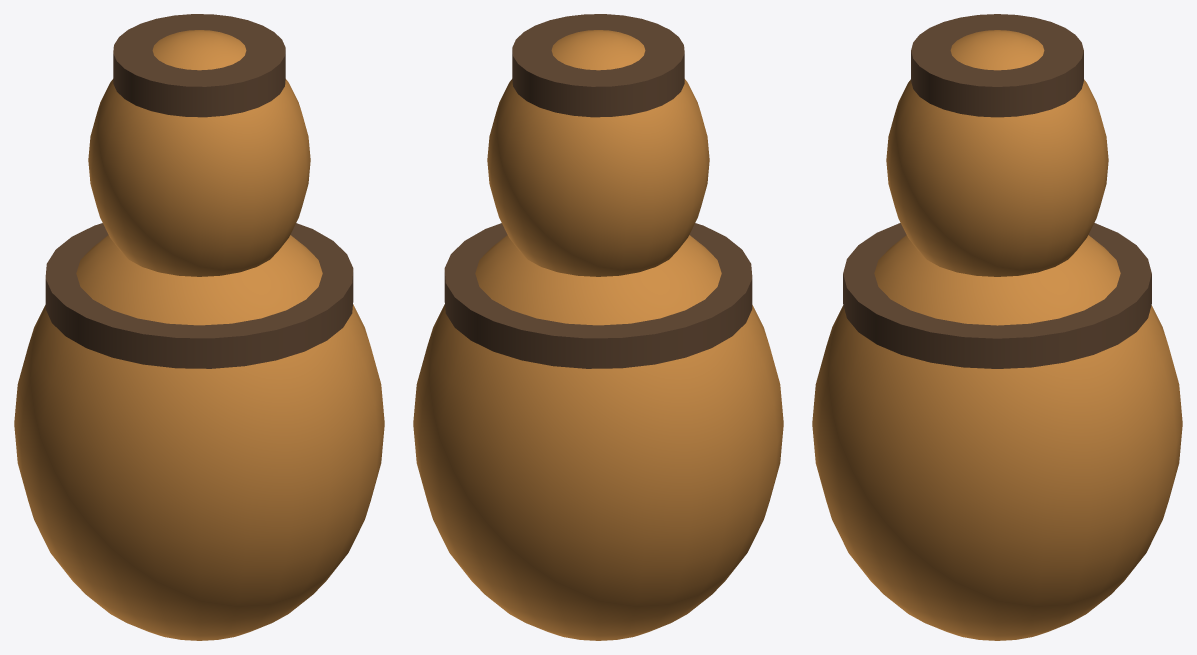
File: wp-religieuse.glb
The picture shows the model from 3 angles, left to right: view 1: azimuth 30°, elevation 25°; view 2: azimuth 150°, elevation 25°; view 3: azimuth 270°, elevation 25°; orthographic projection.
Visible parts, largest first — view 1: wp-religieuse; view 2: wp-religieuse; view 3: wp-religieuse.
Part boxes in pixels (x1,y1,x2,y2): wp-religieuse: (14,14,384,640); wp-religieuse: (413,14,783,640); wp-religieuse: (812,14,1182,640).
Bounding box in the file's own units: 0.08 × 0.14 × 0.08.
